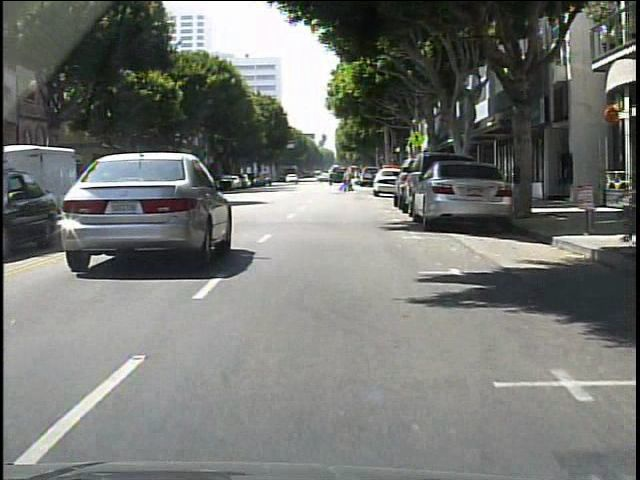person: (342, 165, 356, 191)
